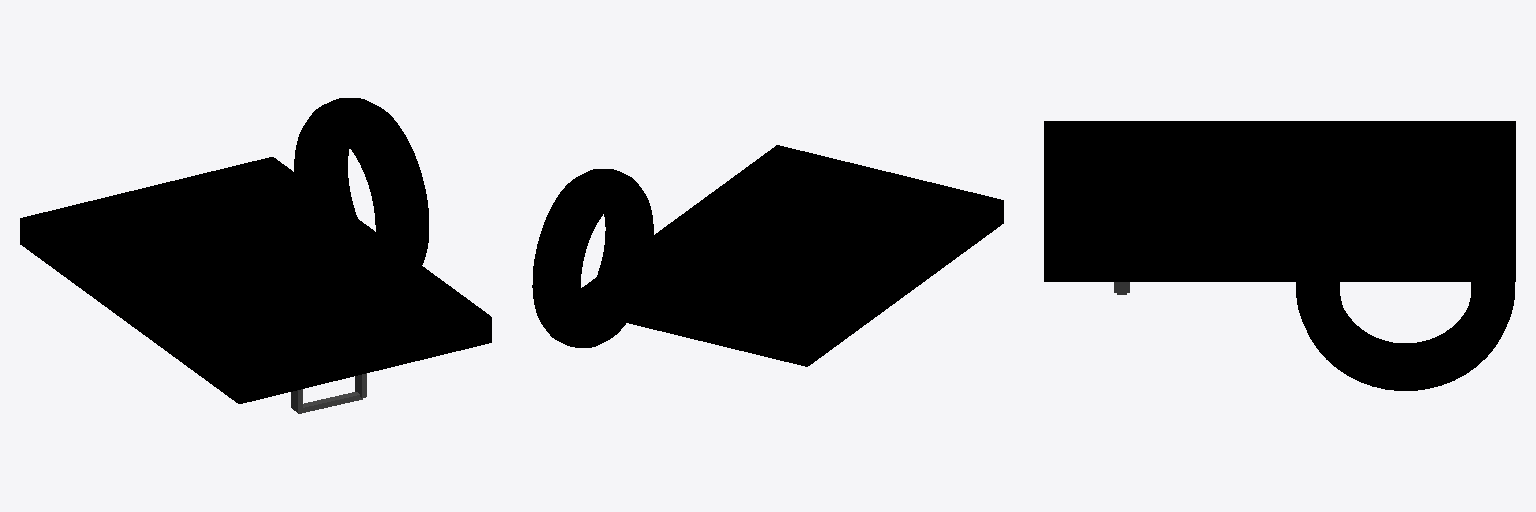
URDF robot description (AUTO):
<?xml version="1.0"?>
<!-- created with Phobos 1.0.1 "Capricious Choutengan" -->
  <robot name="AUTO">

    <link name="Untitled">
      <inertial>
        <origin xyz="0 0 0" rpy="0 0 0"/>
        <mass value="0.1"/>
        <inertia ixx="2e-05" ixy="0" ixz="0" iyy="2e-05" iyz="0" izz="2e-05"/>
      </inertial>
      <visual name="Cube">
        <origin xyz="0 0 0" rpy="0 0 0"/>
        <geometry>
          <box size="0.1 0.15 0.01"/>
        </geometry>
        <material name="Material.010"/>
      </visual>
      <collision name="Cube">
        <origin xyz="0 0 0" rpy="0 0 0"/>
        <geometry>
          <box size="0.1 0.15 0.01"/>
        </geometry>
      </collision>
    </link>

    <link name="Untitled.001">
      <inertial>
        <origin xyz="0 0 0" rpy="0 0 0"/>
        <mass value="0.05"/>
        <inertia ixx="2e-05" ixy="0" ixz="0" iyy="2e-05" iyz="0" izz="2e-05"/>
      </inertial>
      <visual name="Torus.002">
        <origin xyz="0 0 0" rpy="0 0 0"/>
        <geometry>
          <mesh filename="Torus.002.stl" scale="0.028 0.028 0.04"/>
        </geometry>
        <material name="Material.009"/>
      </visual>
      <collision name="Torus.002.000">
        <origin xyz="0 0 0" rpy="0 0 0"/>
        <geometry>
          <mesh filename="Torus.003.stl" scale="1.0 1.0 1.0"/>
        </geometry>
      </collision>
    </link>

    <link name="Untitled.002">
      <inertial>
        <origin xyz="0 0 0" rpy="0 0 0"/>
        <mass value="0.05"/>
        <inertia ixx="2e-05" ixy="0" ixz="0" iyy="2e-05" iyz="0" izz="2e-05"/>
      </inertial>
      <visual name="Torus">
        <origin xyz="0 0 0" rpy="0 -3.14159 0.86538"/>
        <geometry>
          <mesh filename="Torus.stl" scale="0.028 0.028 0.04"/>
        </geometry>
        <material name="Material.002"/>
      </visual>
      <collision name="Torus.000">
        <origin xyz="0 0 0" rpy="0 3.14159 0.86538"/>
        <geometry>
          <mesh filename="Torus.004.stl" scale="1.0 1.0 1.0"/>
        </geometry>
      </collision>
    </link>

    <link name="Untitled.003">
      <inertial>
        <origin xyz="0 0 0" rpy="0 0 0"/>
        <mass value="0.01"/>
        <inertia ixx="2e-05" ixy="0" ixz="0" iyy="2e-05" iyz="0" izz="2e-05"/>
      </inertial>
      <visual name="Cylinder">
        <origin xyz="0 0 0" rpy="0 0 0"/>
        <geometry>
          <cylinder radius="0.005" length="0.005"/>
        </geometry>
        <material name="Material.011"/>
      </visual>
      <collision name="Cylinder">
        <origin xyz="0 0 0" rpy="0 0 0"/>
        <geometry>
          <cylinder radius="0.005" length="0.005"/>
        </geometry>
      </collision>
    </link>

    <link name="Untitled.004">
      <inertial>
        <origin xyz="0 0 0" rpy="0 0 0"/>
        <mass value="0.01"/>
        <inertia ixx="2e-05" ixy="0" ixz="0" iyy="2e-05" iyz="0" izz="2e-05"/>
      </inertial>
      <visual name="Cube.004">
        <origin xyz="0 0 0" rpy="0 0 -0.02806"/>
        <geometry>
          <box size="0.025 0.01 0.002"/>
        </geometry>
        <material name="Material.006"/>
      </visual>
      <collision name="Cube.004">
        <origin xyz="0 0 0" rpy="0 0 -0.02806"/>
        <geometry>
          <box size="0.025 0.01 0.002"/>
        </geometry>
      </collision>
    </link>

    <link name="Untitled.005">
      <inertial>
        <origin xyz="0 0 -0.0065" rpy="0 0 0"/>
        <mass value="0.01"/>
        <inertia ixx="2e-05" ixy="0" ixz="0" iyy="2e-05" iyz="0" izz="2e-05"/>
      </inertial>
      <visual name="Cube.001">
        <origin xyz="0 0 -0.0065" rpy="0 1.5708 0"/>
        <geometry>
          <box size="0.013 0.005 0.002"/>
        </geometry>
        <material name="Material.012"/>
      </visual>
      <collision name="Cube.001">
        <origin xyz="0 0 -0.0065" rpy="0 1.5708 0"/>
        <geometry>
          <box size="0.013 0.005 0.002"/>
        </geometry>
      </collision>
    </link>

    <link name="Untitled.006">
      <inertial>
        <origin xyz="0 0 -0.0065" rpy="0 0 0"/>
        <mass value="0.01"/>
        <inertia ixx="2e-05" ixy="0" ixz="0" iyy="2e-05" iyz="0" izz="3e-05"/>
      </inertial>
      <visual name="Cube.003">
        <origin xyz="0 0 -0.0065" rpy="0 1.5708 0"/>
        <geometry>
          <box size="0.013 0.005 0.002"/>
        </geometry>
        <material name="Material.008"/>
      </visual>
      <collision name="Cube.003">
        <origin xyz="0 0 -0.0065" rpy="0 1.5708 0"/>
        <geometry>
          <box size="0.013 0.005 0.002"/>
        </geometry>
      </collision>
    </link>

    <link name="Untitled.007">
      <inertial>
        <origin xyz="0.01 0 0" rpy="0 0 0"/>
        <mass value="0.01"/>
        <inertia ixx="2e-05" ixy="0" ixz="0" iyy="2e-05" iyz="0" izz="2e-05"/>
      </inertial>
      <visual name="Cube.002">
        <origin xyz="0.01 0 0" rpy="0 0 0"/>
        <geometry>
          <box size="0.025 0.003 0.002"/>
        </geometry>
        <material name="Material.013"/>
      </visual>
      <collision name="Cube.002">
        <origin xyz="0.01 0 0" rpy="0 0 0"/>
        <geometry>
          <box size="0.025 0.003 0.002"/>
        </geometry>
      </collision>
    </link>

    <link name="Untitled.008">
      <inertial>
        <origin xyz="0 0 0" rpy="0 0 0"/>
        <mass value="0.01"/>
        <inertia ixx="2e-05" ixy="0" ixz="0" iyy="2e-05" iyz="0" izz="2e-05"/>
      </inertial>
      <visual name="Torus.001">
        <origin xyz="0 0 0" rpy="0 0 0"/>
        <geometry>
          <mesh filename="Torus.001.stl" scale="0.0072 0.0072 0.03"/>
        </geometry>
        <material name="Material.003"/>
      </visual>
      <collision name="Torus.001.000">
        <origin xyz="0 0 0" rpy="0 0 0"/>
        <geometry>
          <mesh filename="Torus.005.stl" scale="1.0 1.0 1.0"/>
        </geometry>
      </collision>
    </link>

    <joint name="Untitled.001" type="continuous">
      <origin xyz="-0.065 0.04 0" rpy="0 1.5708 0"/>
      <parent link="Untitled"/>
      <child link="Untitled.001"/>
      <axis xyz="0 0 1.0"/>
      <limit effort="10.0" velocity="32.0"/>
    </joint>

    <joint name="Untitled.002" type="continuous">
      <origin xyz="0.065 0.04 0" rpy="0 1.5708 0"/>
      <parent link="Untitled"/>
      <child link="Untitled.002"/>
      <axis xyz="0 0 1.0"/>
      <limit effort="10.0" velocity="32.0"/>
    </joint>

    <joint name="Untitled.003" type="fixed">
      <origin xyz="0 -0.05 -0.009" rpy="0 0 0"/>
      <parent link="Untitled"/>
      <child link="Untitled.003"/>
    </joint>

    <joint name="Untitled.004" type="revolute">
      <origin xyz="0 0 -0.004" rpy="0 0 0"/>
      <parent link="Untitled.003"/>
      <child link="Untitled.004"/>
      <axis xyz="0 0 1.0"/>
      <limit lower="-1.57" upper="1.57" effort="2.0" velocity="10.0"/>
    </joint>

    <joint name="Untitled.005" type="fixed">
      <origin xyz="0.0125 -0.00035 0" rpy="0 0 -0.02806"/>
      <parent link="Untitled.004"/>
      <child link="Untitled.005"/>
    </joint>

    <joint name="Untitled.006" type="fixed">
      <origin xyz="-0.0125 0.00035 0" rpy="0 0 -0.02806"/>
      <parent link="Untitled.004"/>
      <child link="Untitled.006"/>
    </joint>

    <joint name="Untitled.007" type="fixed">
      <origin xyz="0.0025 0 -0.013" rpy="0 0 0"/>
      <parent link="Untitled.006"/>
      <child link="Untitled.007"/>
    </joint>

    <joint name="Untitled.008" type="continuous">
      <origin xyz="0.01 0 0" rpy="0 1.5708 0"/>
      <parent link="Untitled.007"/>
      <child link="Untitled.008"/>
      <axis xyz="0 0 1.0"/>
      <limit effort="30" velocity="250"/>
    </joint>

    <material name="Material.002">
      <color rgba="0 0 0 1.0"/>
    </material>

    <material name="Material.003">
      <color rgba="0 0 0 1.0"/>
    </material>

    <material name="Material.006">
      <color rgba="0.32 0.32 0.32 1.0"/>
    </material>

    <material name="Material.008">
      <color rgba="0.32 0.32 0.32 1.0"/>
    </material>

    <material name="Material.009">
      <color rgba="0 0 0 1.0"/>
    </material>

    <material name="Material.010">
      <color rgba="0 0 0 1.0"/>
    </material>

    <material name="Material.011">
      <color rgba="0.32 0.32 0.32 1.0"/>
    </material>

    <material name="Material.012">
      <color rgba="0.32 0.32 0.32 1.0"/>
    </material>

    <material name="Material.013">
      <color rgba="0.32 0.32 0.32 1.0"/>
    </material>

  </robot>

--- Facts derived from the render (not from the file) ---
3 views of the same robot in one strip: view 1: azimuth 30°, elevation 25°; view 2: azimuth 150°, elevation 25°; view 3: azimuth 270°, elevation 25° (orthographic).
Model AUTO with 9 links and 8 joints (1 revolute, 3 continuous, 4 fixed), rooted at Untitled, posed every joint at zero.
Visible links, largest first — view 1: Untitled, Untitled.002, Untitled.007; view 2: Untitled, Untitled.002; view 3: Untitled, Untitled.002.
Boxes of the visible links, x1,y1,x2,y2 form: Untitled: [20, 157, 491, 403]; Untitled.002: [294, 98, 428, 264]; Untitled.007: [298, 392, 362, 413]; Untitled: [581, 145, 1003, 366]; Untitled.002: [532, 169, 653, 347]; Untitled: [1044, 121, 1515, 281]; Untitled.002: [1296, 184, 1514, 390].
Bounding box of the posed robot: 0.125 × 0.15 × 0.0699 m (x, y, z).
Meshes: 3 distinct files referenced, 1 mesh visuals loaded (1 binary STL); not drawn: 2 (reference not matched to a file when rendering).
